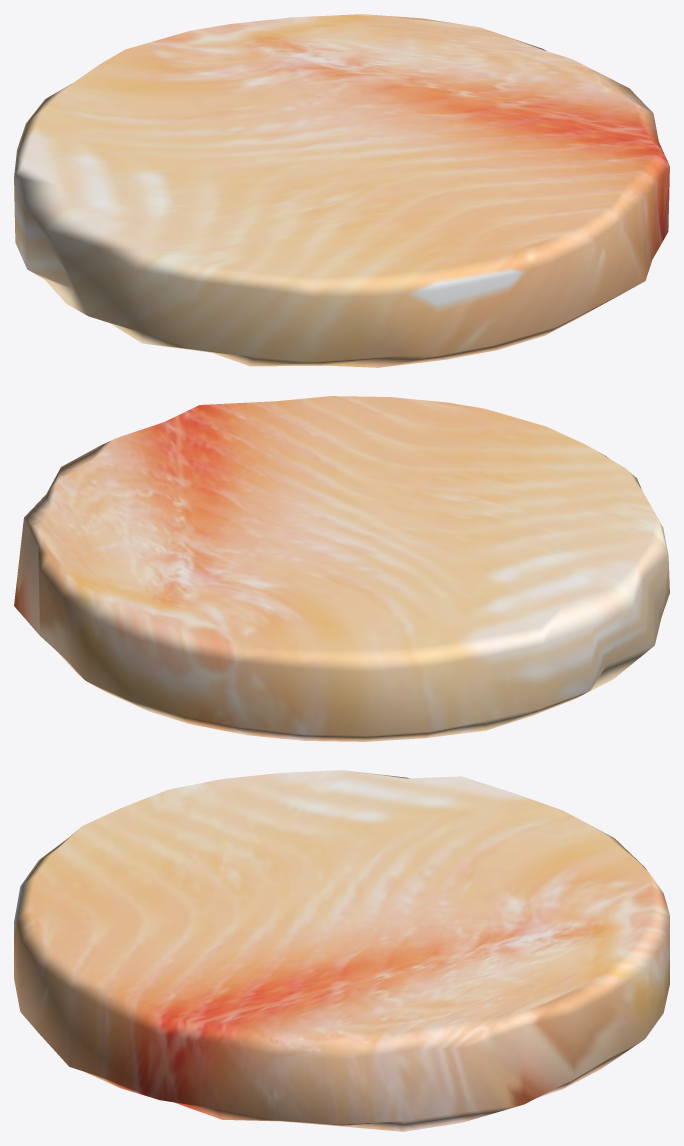
Rendered from FishPattyUncooked.fbx.
3 renders of one model, top to bottom at view 1: azimuth 30°, elevation 25°; view 2: azimuth 150°, elevation 25°; view 3: azimuth 270°, elevation 25°, orthographic. The views are drawn at different scales.
Parts seen in each view (by area): view 1: FishPattyUncooked; view 2: FishPattyUncooked; view 3: FishPattyUncooked.
Part boxes in pixels (x1,y1,x2,y2): FishPattyUncooked: (14,14,669,367); FishPattyUncooked: (14,396,669,741); FishPattyUncooked: (14,770,669,1131).
Size of the model in its own units: 272 by 41.14 by 262.
